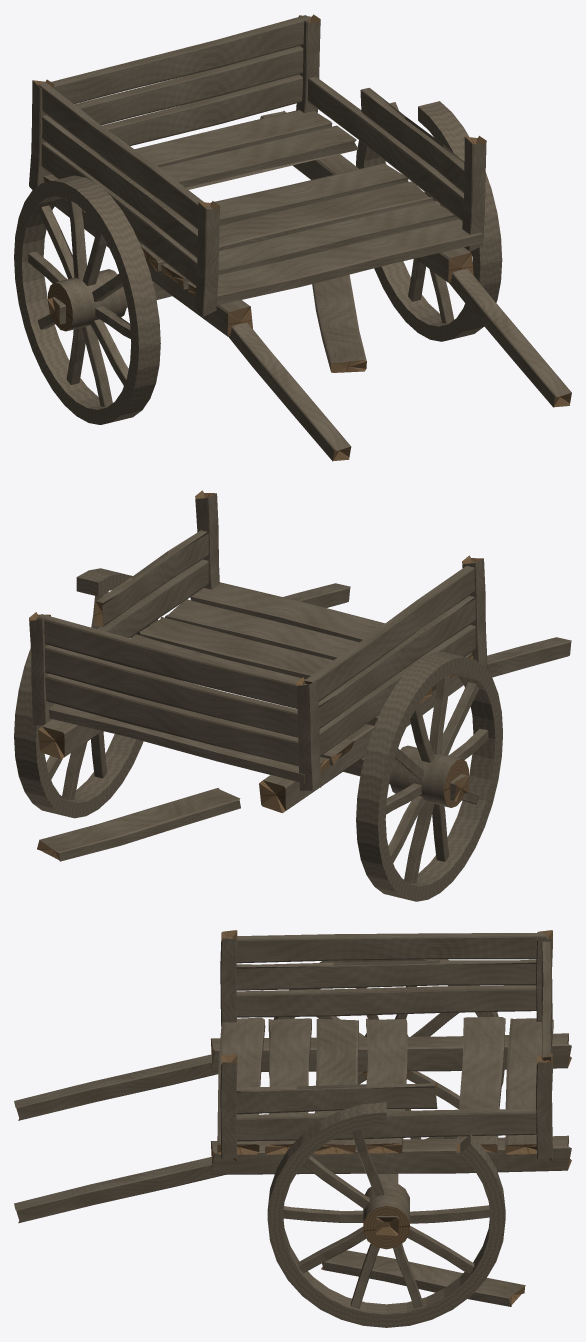
Rendered from cart_broken.fbx.
3 views of the same model, one above another, from view 1: azimuth 30°, elevation 25°; view 2: azimuth 150°, elevation 25°; view 3: azimuth 270°, elevation 25° (orthographic). The views are drawn at different scales.
Parts seen in each view (by area): view 1: cart_broken; view 2: cart_broken; view 3: cart_broken.
Boxes of the visible parts, box(x1,y1,x2,y2) form: cart_broken: box(14, 14, 571, 461); cart_broken: box(14, 490, 571, 901); cart_broken: box(14, 930, 571, 1327).
Size of what is drawn, in the model's own units: 1.96 by 1.2 by 2.44.
Materials: 1 (1 with a texture image).
